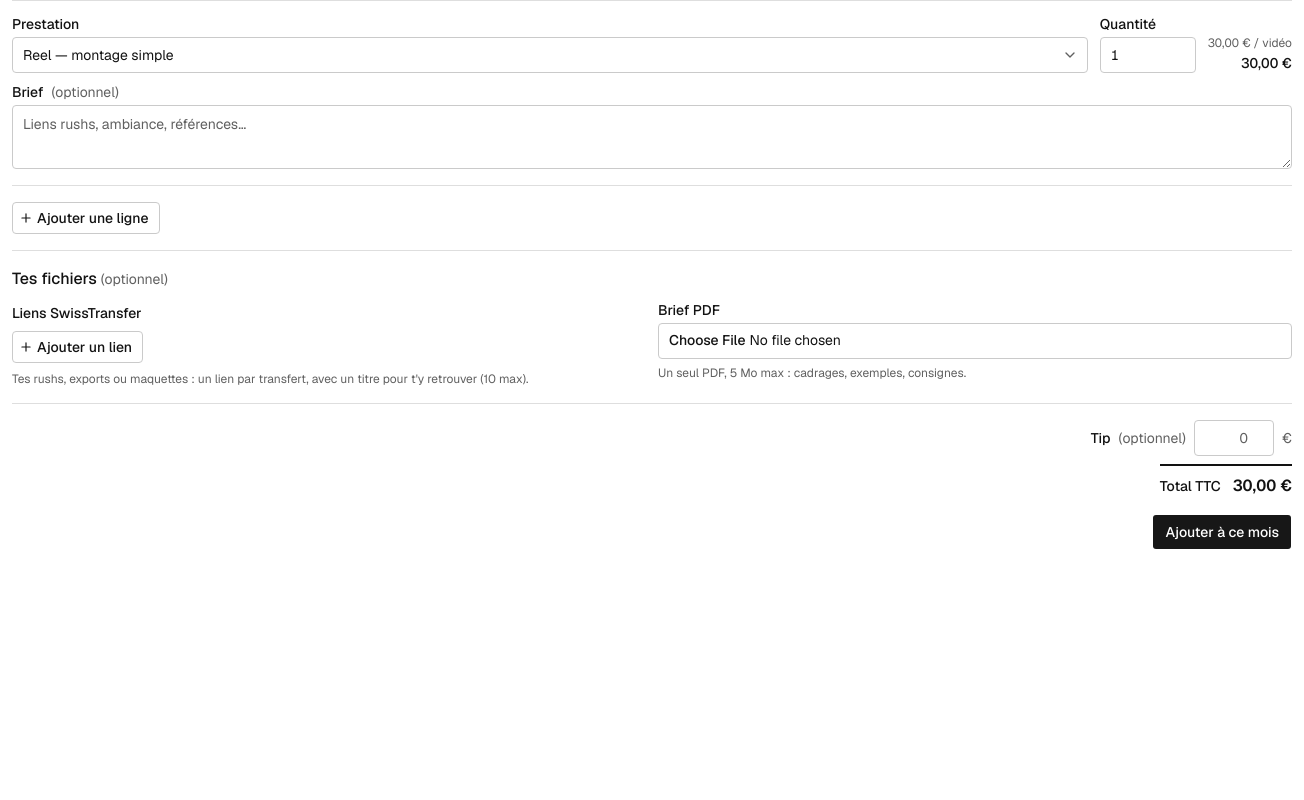
Test: CommandeForm › bloque un lien non-https et permet de retirer un lien
Step 1. Click the button "Ajouter un lien" → (78, 347), box [12,331,143,363]
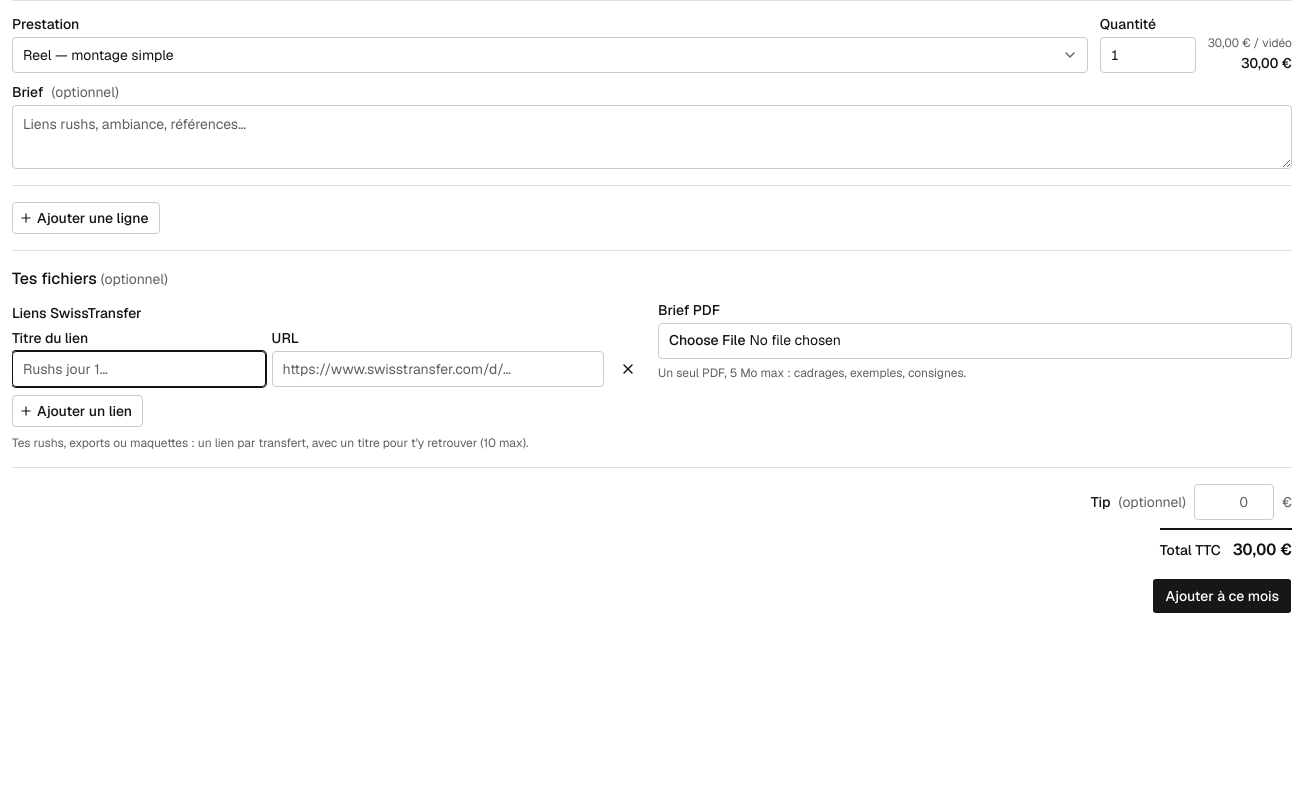
Step 2. Type "http://pas-https.com/x" into the field labelled "URL" → (438, 369), box [272,351,604,387]
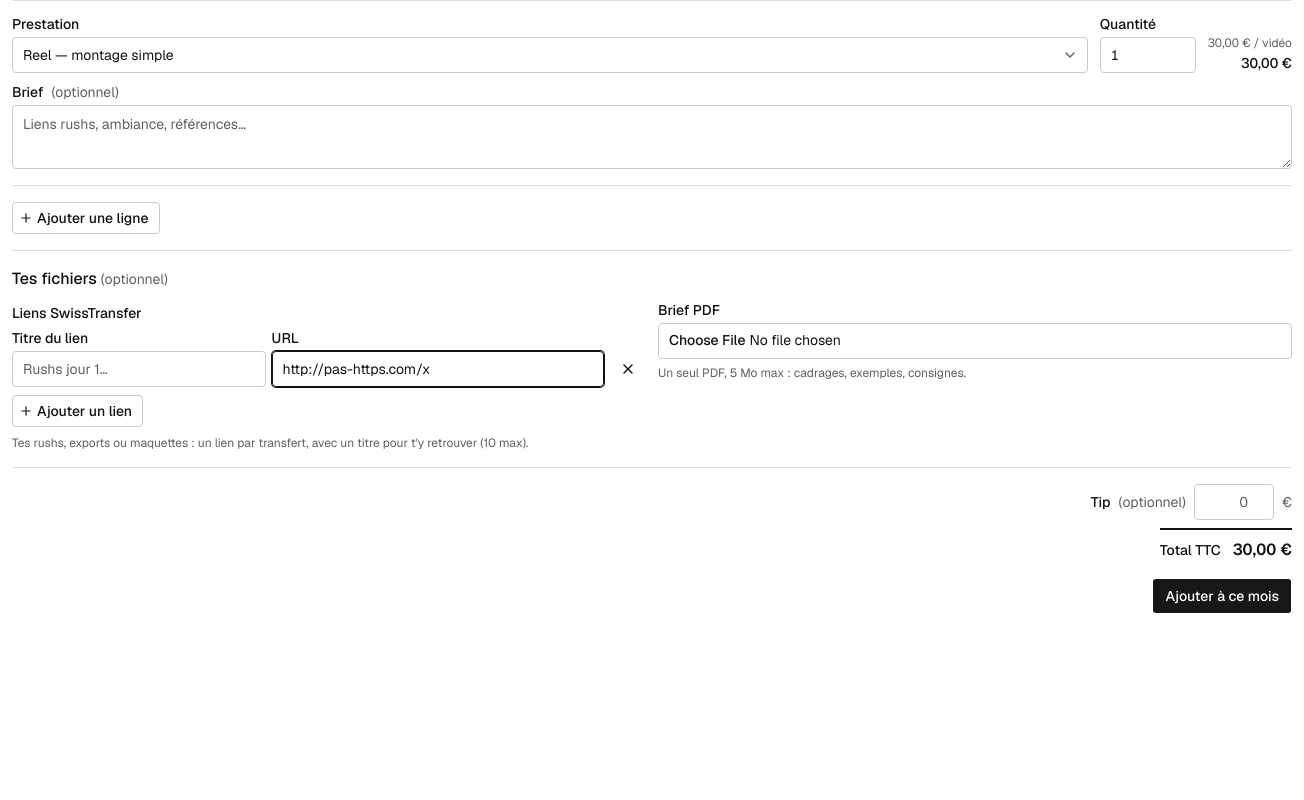
Step 3. Click the button "Ajouter à ce mois" → (1222, 596), box [1152,578,1292,614]
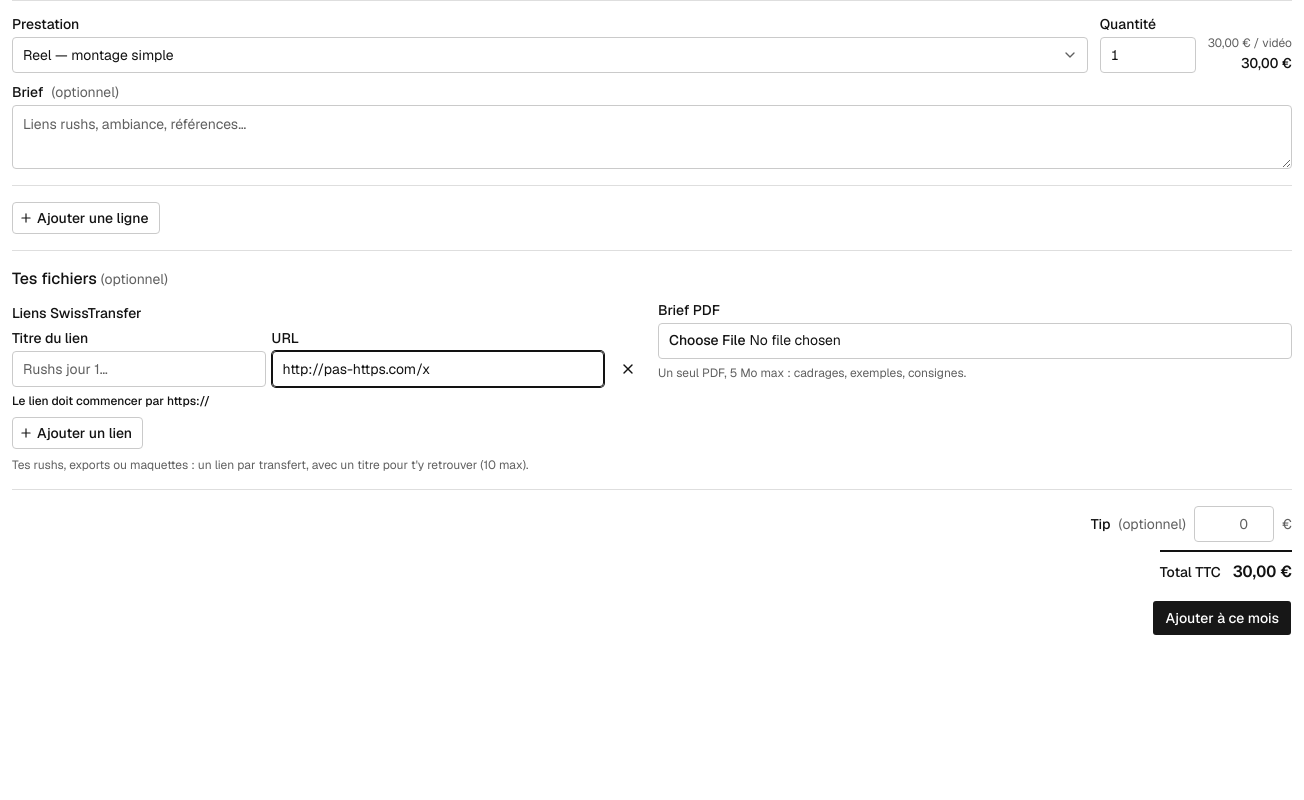
Expected: the text "Le lien doit commencer par https://" is shown, [12,393,210,409]
Step 4. Click the button named "retirer le lien 1" → (628, 369), box [610,351,646,387]
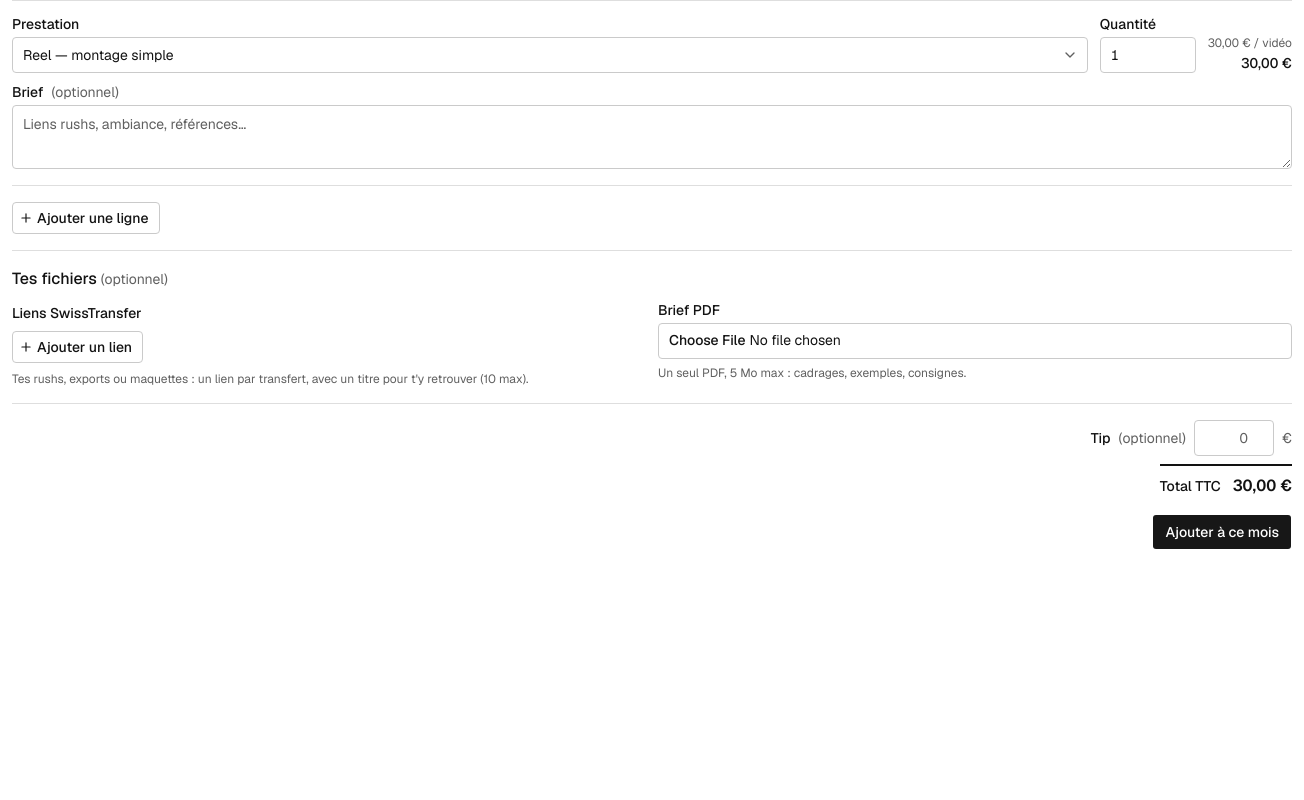
Expected: the label labelled "URL" is gone
